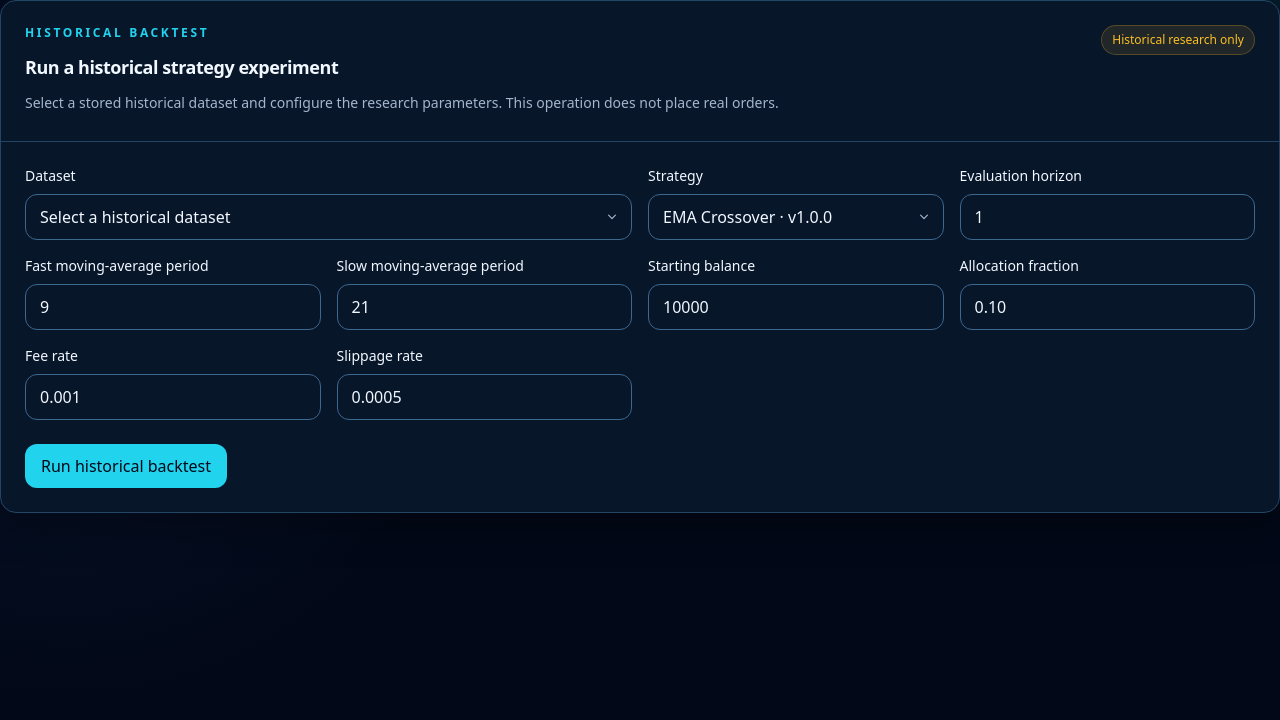
Test: ExperimentRunForm › rejects a slow EMA period that is not greater than the fast period
The image size is (1280, 720).
Select "BTC historical dataset · BTC/USDT · 1h" in the dropdown labelled "Dataset" at [328, 217], box x1=25 y1=194 x2=632 y2=240
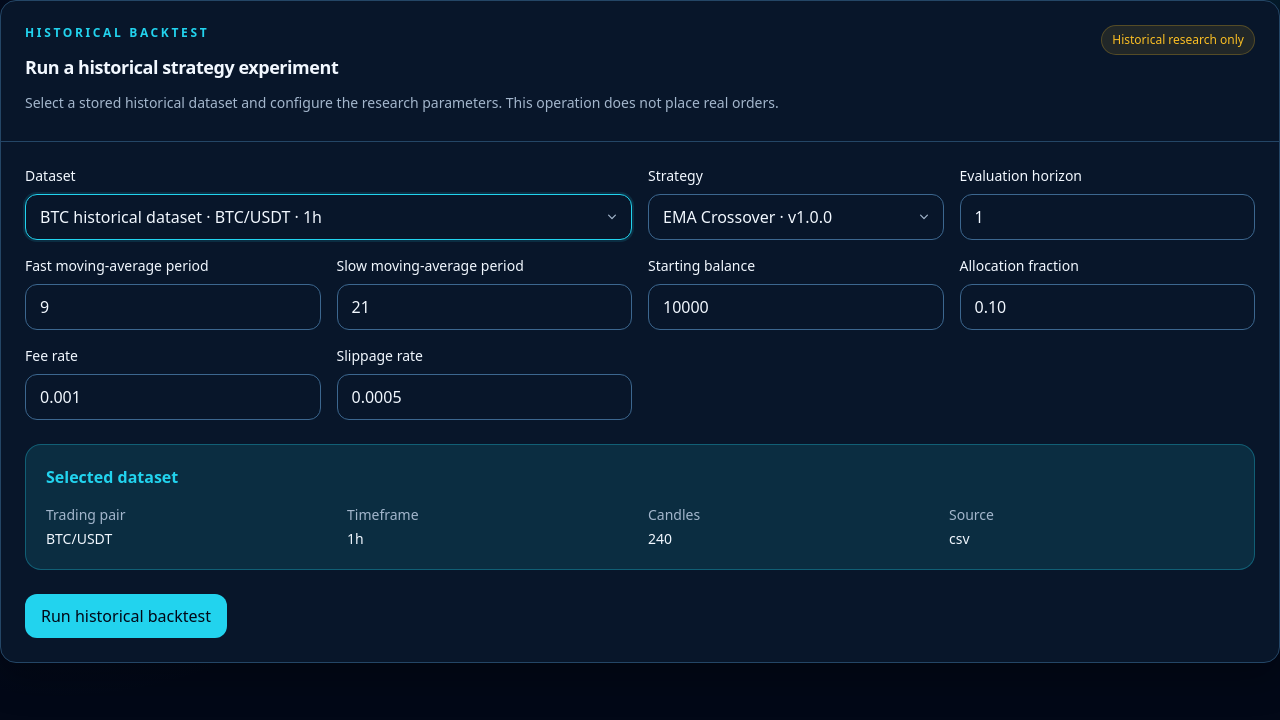
Replace the text in the number field labelled "Fast moving-average period" with "21" at [173, 307], box x1=25 y1=284 x2=320 y2=330
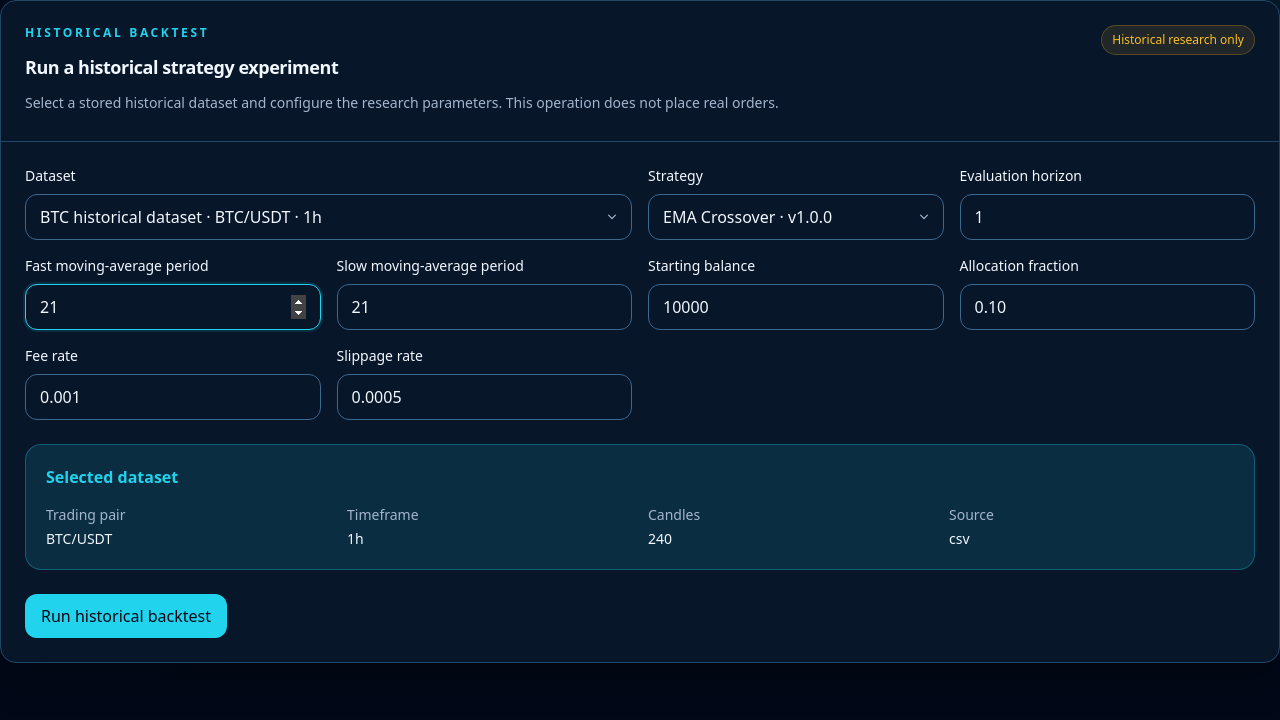
Click the button "Run historical backtest" at [126, 616], box x1=25 y1=594 x2=227 y2=638
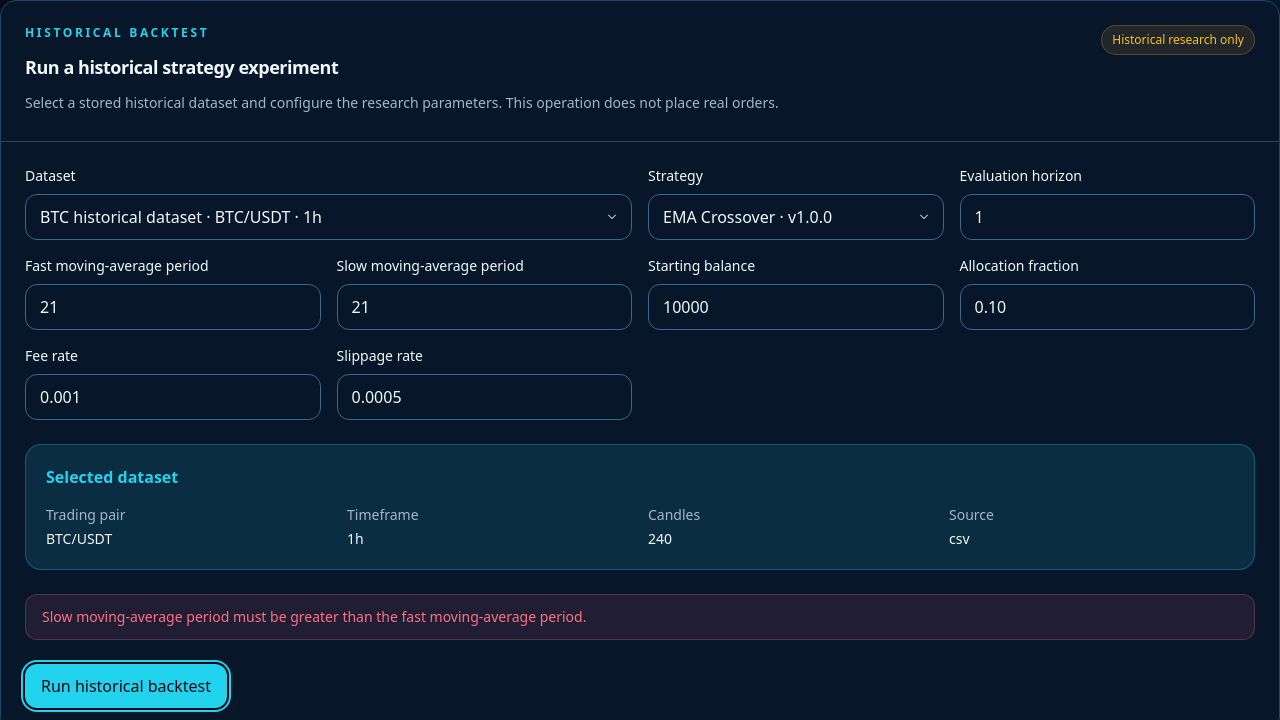
expect the message reads "Slow moving-average period must be greater than the fast moving-average period.": met, box x1=42 y1=607 x2=586 y2=626
